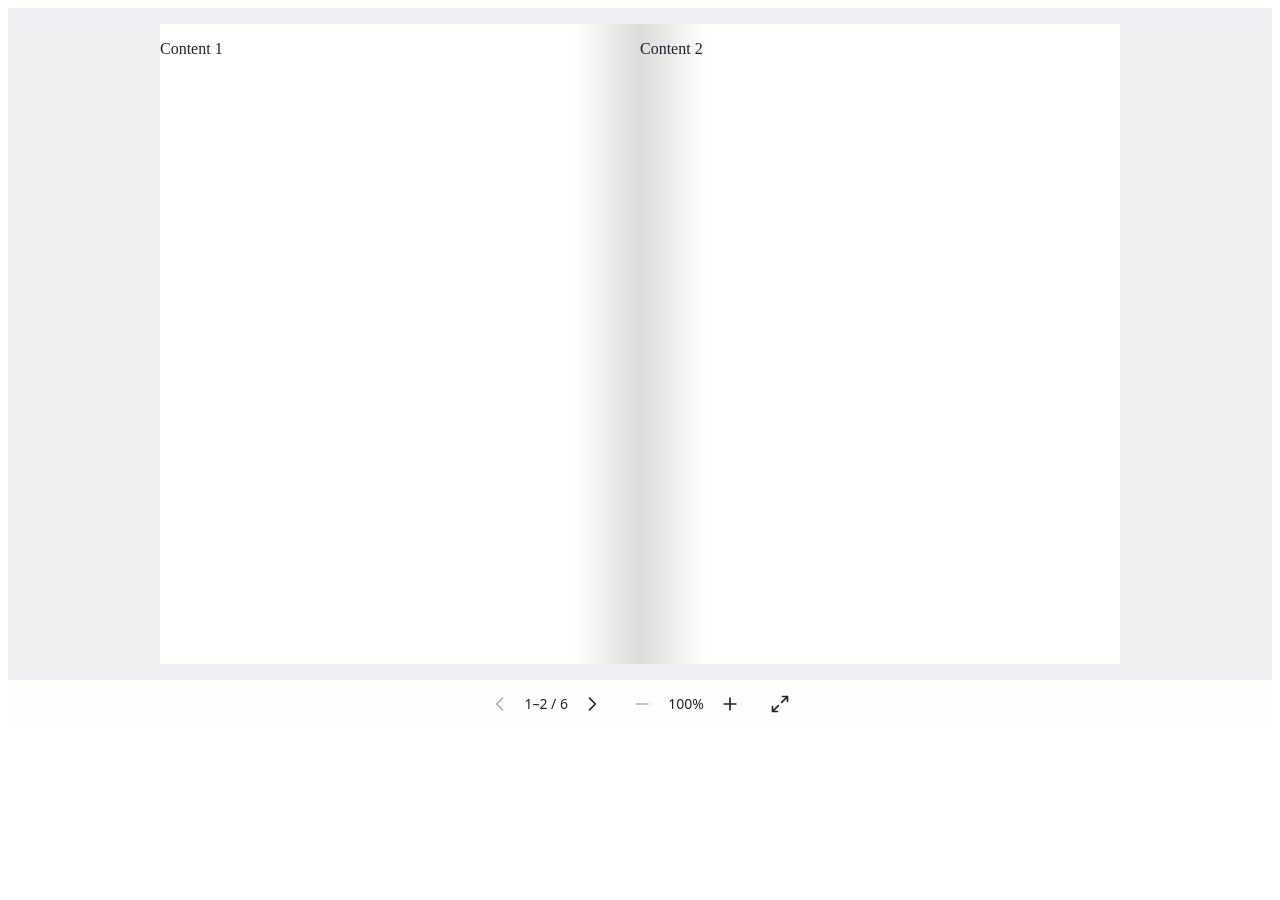
it: toolbar › zoom buttons change the zoom and show it as a percentage
Click the button named "Zoom in" at coordinates (730, 704), box [712,686,748,722]
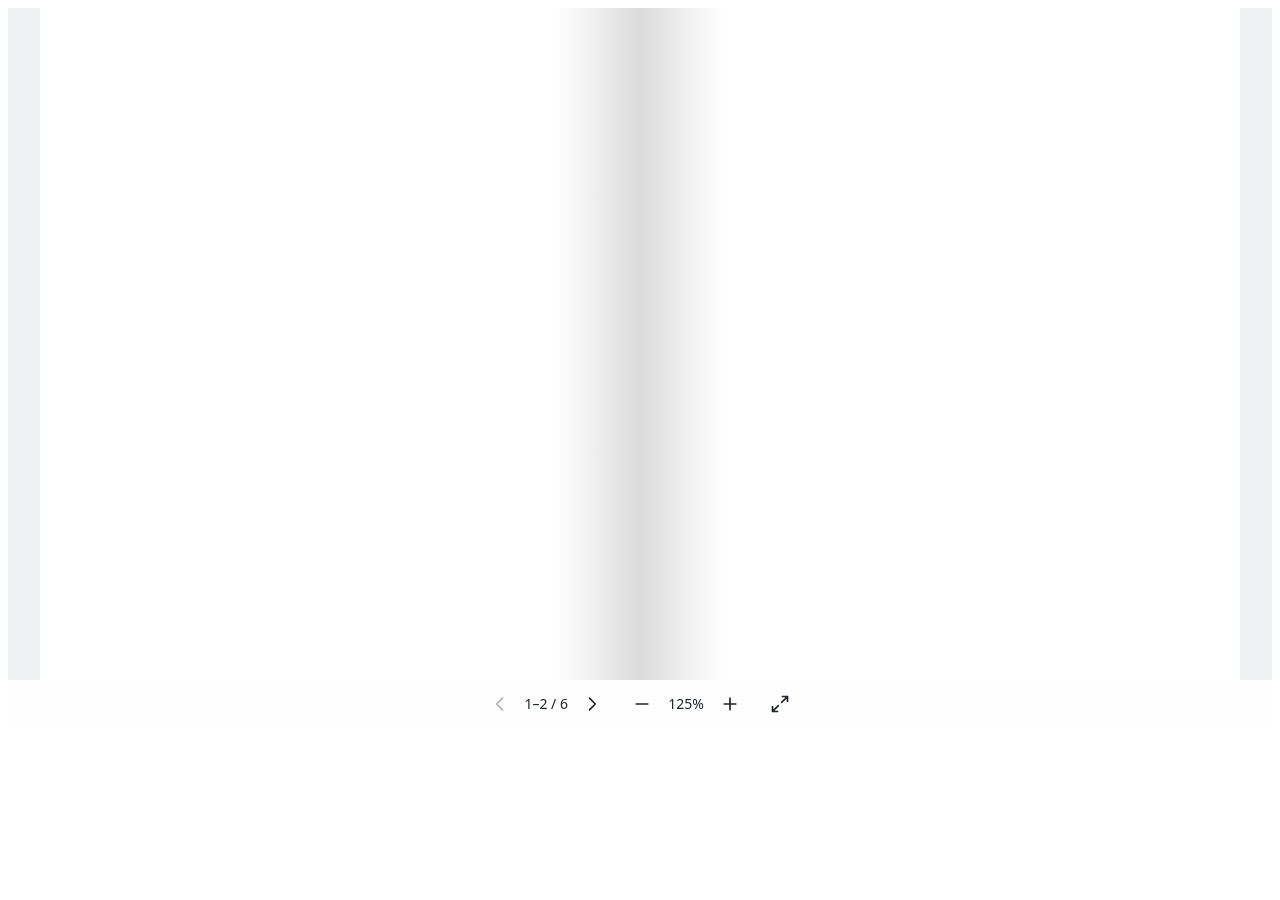
Check: the button "125%" is shown, box [662,686,710,722]
Click the button named "Zoom in" at coordinates (730, 704), box [712,686,748,722]
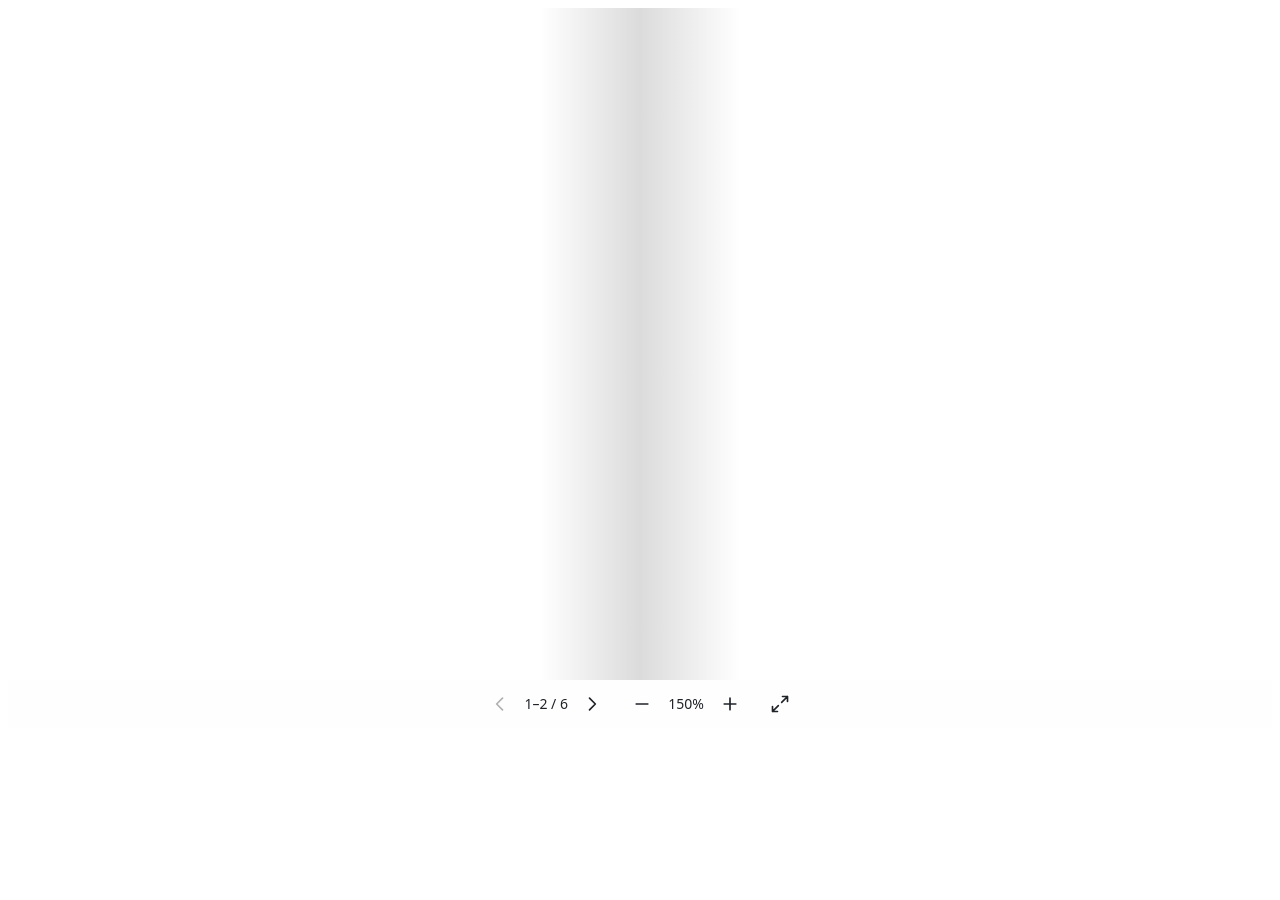
Check: the button "150%" is shown
// The button's name says what it shows, so that "click 150 percent" works by voice.
Click the button named "Fit to window, 150%" at coordinates (686, 704), box [662,686,710,722]
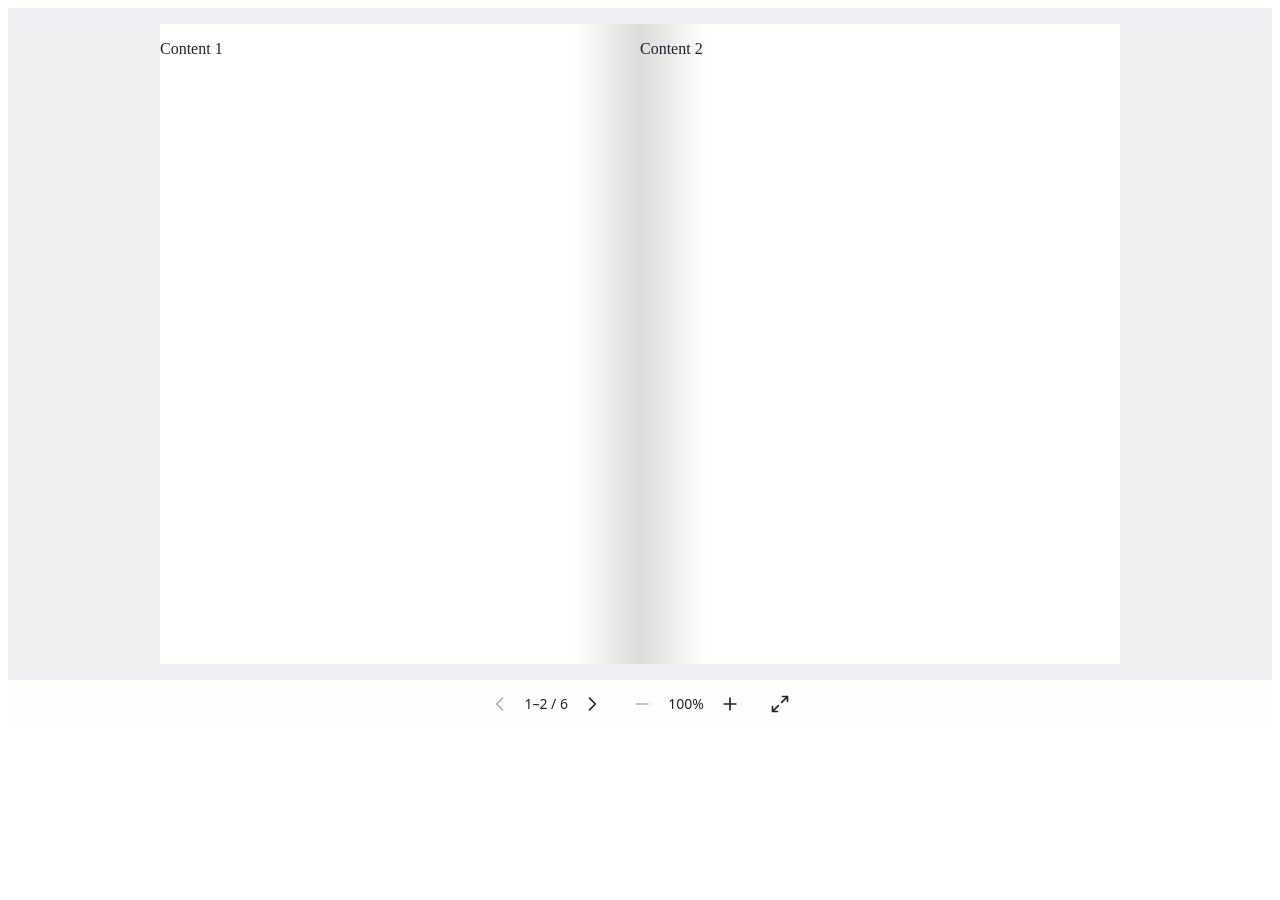
Check: the button "100%" is shown, box [662,686,710,722]
